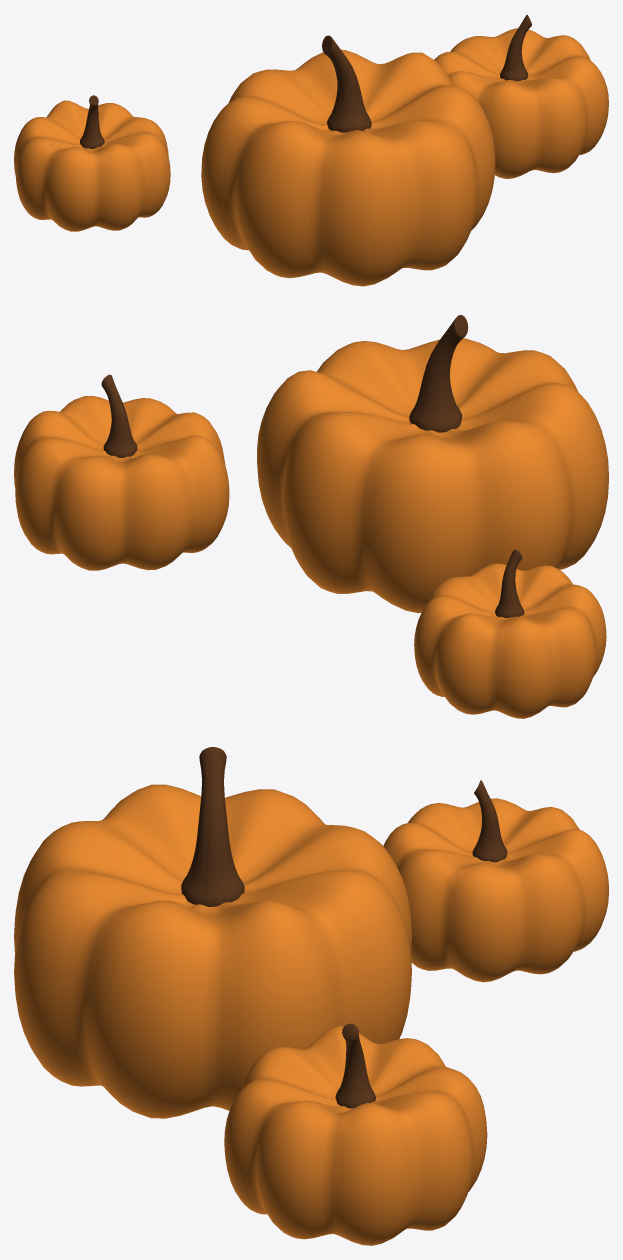
The model's file is pumpkins.glb.
3 renders of one model, top to bottom at view 1: azimuth 30°, elevation 25°; view 2: azimuth 150°, elevation 25°; view 3: azimuth 270°, elevation 25°, orthographic. The views are drawn at different scales.
Visible parts, largest first — view 1: pumpkins; view 2: pumpkins; view 3: pumpkins.
Boxes of the visible parts, x1,y1,x2,y2 form: pumpkins: (14,14,608,286); pumpkins: (14,315,608,718); pumpkins: (14,747,608,1245).
Bounding box in the file's own units: 4.06 × 1.55 × 2.8.
